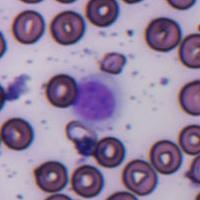L: (72, 72, 123, 123)
